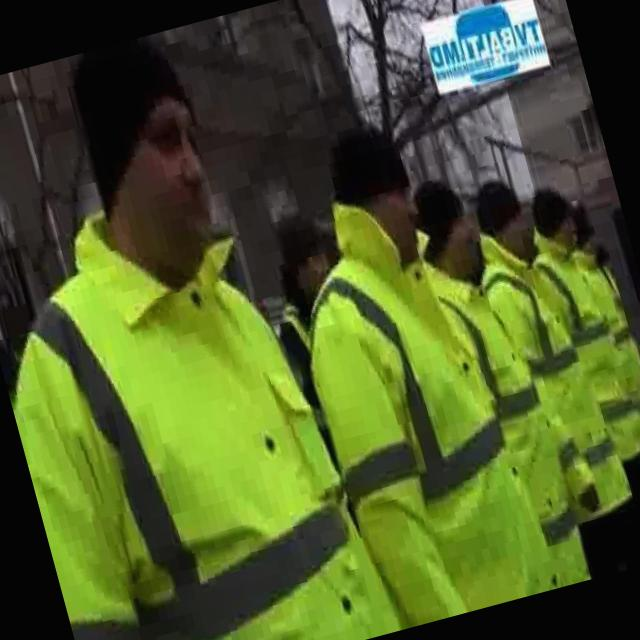vest: (0, 160, 403, 640), (265, 162, 560, 636), (416, 241, 590, 601), (464, 209, 637, 534), (522, 211, 640, 469), (569, 237, 640, 456)
